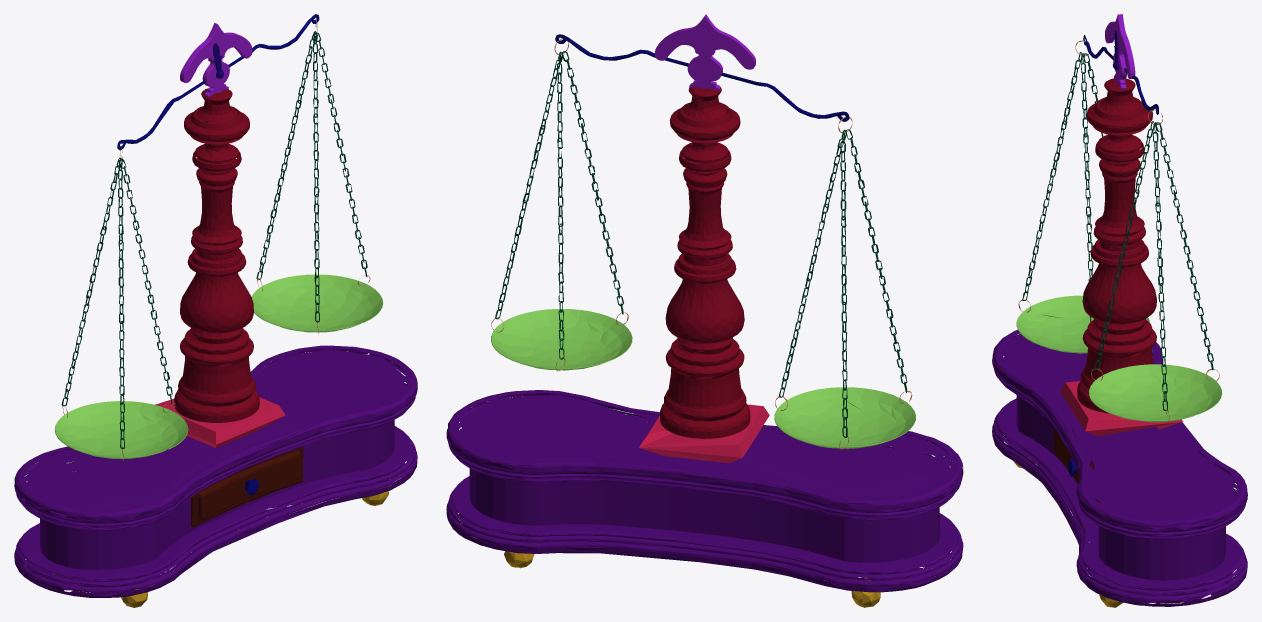
File: balanceOP.FBX
The picture shows the model from 3 angles, left to right: view 1: azimuth 30°, elevation 25°; view 2: azimuth 150°, elevation 25°; view 3: azimuth 270°, elevation 25°; orthographic projection. The views are drawn at different scales.
Visible parts, largest first — view 1: Line02, sub051, sub061, Line06, Line09, Line10, sub011, ChamferBox, sub05, sub041, Rectangle1, sub021 (+9 smaller); view 2: Line06, Line02, sub061, sub051, Line10, Line09, sub011, sub041, sub05, Rectangle1, sub06, sub03 (+7 smaller); view 3: Line02, sub061, sub051, Line06, Line10, sub011, Line09, Rectangle1, sub041, sub05, sub021, sub06 (+8 smaller).
Boxes of the visible parts, x1,y1,x2,y2 form: Line02: (174, 88, 259, 422); sub051: (14, 345, 417, 520); sub061: (24, 349, 405, 510); Line06: (40, 394, 394, 569); Line09: (54, 401, 188, 458); Line10: (251, 274, 383, 332); sub011: (19, 426, 412, 580); ChamferBox: (191, 446, 303, 527); sub05: (14, 457, 417, 597); sub041: (14, 451, 417, 592); Rectangle1: (155, 397, 285, 447); sub021: (16, 440, 415, 584); Line06: (469, 446, 939, 562); Line02: (660, 85, 750, 438); sub061: (459, 394, 950, 497); sub051: (446, 390, 963, 510); Line10: (491, 309, 632, 370); Line09: (774, 387, 915, 448); sub011: (451, 476, 958, 573); sub041: (446, 503, 963, 586); sub05: (446, 505, 962, 592); Rectangle1: (639, 404, 769, 463); sub06: (458, 514, 951, 586); sub03: (655, 16, 754, 90); Line02: (1077, 78, 1156, 413); sub061: (1002, 334, 1235, 517); sub051: (992, 329, 1247, 529); Line06: (1016, 349, 1225, 580); Line10: (1088, 364, 1222, 422); sub011: (996, 398, 1243, 589); Line09: (1016, 295, 1149, 353); Rectangle1: (1060, 381, 1182, 436); sub041: (992, 424, 1247, 601); sub05: (992, 431, 1247, 606); sub021: (994, 412, 1245, 593); sub06: (1006, 432, 1232, 603).
Bounding box in the file's own units: 443 × 518 × 233.
